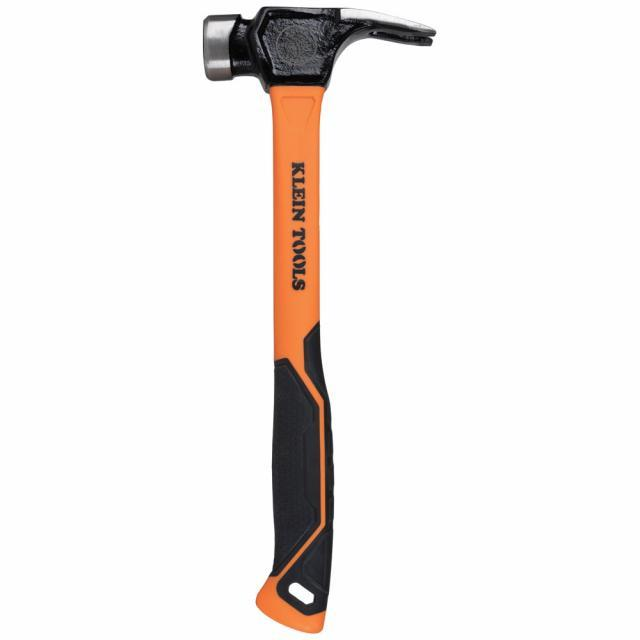hammer: (193, 0, 440, 640)
